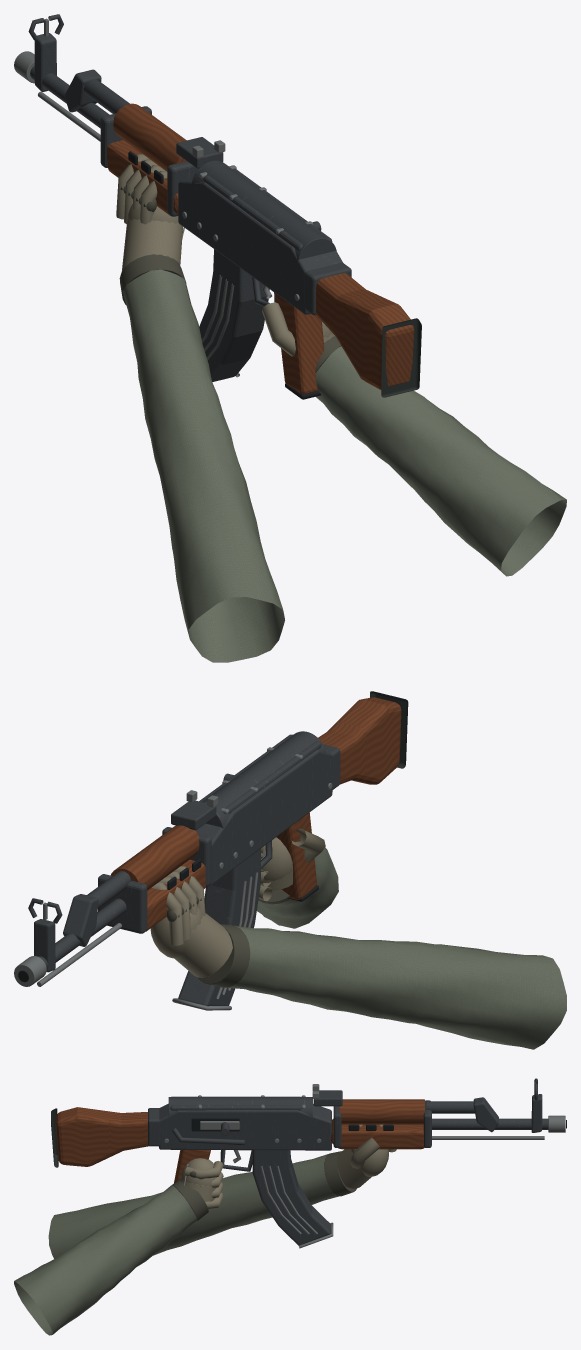
The model's file is rifle.glb.
The picture shows the model from 3 angles, top to bottom: view 1: azimuth 30°, elevation 25°; view 2: azimuth 150°, elevation 25°; view 3: azimuth 270°, elevation 25°; orthographic projection. The views are drawn at different scales.
Parts seen in each view (by area): view 1: SupportArmSurface, GunSurface, MainArmSurface, MagazineSurface; view 2: SupportArmSurface, GunSurface, MainArmSurface, MagazineSurface; view 3: GunSurface, MainArmSurface, SupportArmSurface, MagazineSurface, BoltSurface.
Part boxes in pixels (bbox=[...]): SupportArmSurface: bbox=[116, 154, 284, 662]; GunSurface: bbox=[14, 14, 421, 399]; MainArmSurface: bbox=[262, 302, 566, 576]; MagazineSurface: bbox=[199, 249, 269, 381]; SupportArmSurface: bbox=[150, 866, 566, 1049]; GunSurface: bbox=[14, 691, 408, 986]; MainArmSurface: bbox=[257, 828, 338, 928]; MagazineSurface: bbox=[172, 849, 260, 1010]; GunSurface: bbox=[51, 1078, 566, 1183]; MainArmSurface: bbox=[14, 1158, 223, 1335]; SupportArmSurface: bbox=[48, 1124, 396, 1258]; MagazineSurface: bbox=[252, 1150, 333, 1248]; BoltSurface: bbox=[200, 1121, 239, 1135].
Size of the model in its own units: 0.8774 by 0.8571 by 1.76.
Materials: 9 (5 with a texture image).
